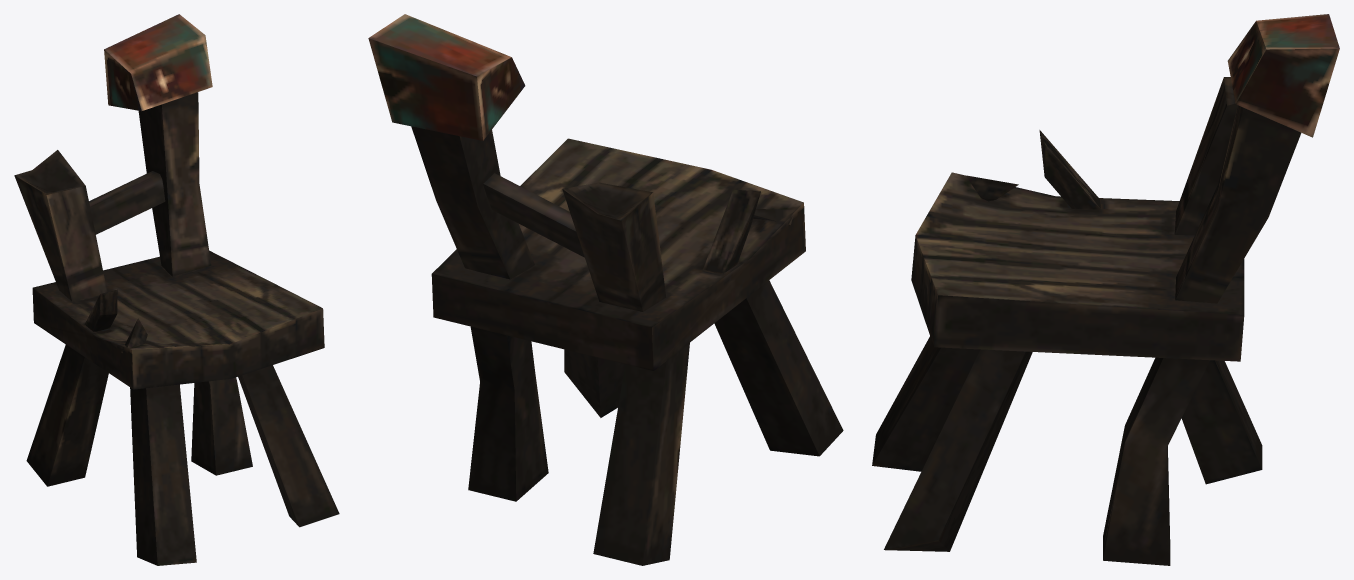
The model's file is dwarven_chair_02.fbx.
3 renders of one model, left to right at view 1: azimuth 30°, elevation 25°; view 2: azimuth 150°, elevation 25°; view 3: azimuth 270°, elevation 25°, orthographic. The views are drawn at different scales.
Visible parts, largest first — view 1: dwarven_chair02; view 2: dwarven_chair02; view 3: dwarven_chair02.
Boxes of the visible parts, x1,y1,x2,y2 form: dwarven_chair02: (14,14,339,565); dwarven_chair02: (368,14,843,565); dwarven_chair02: (872,14,1339,565).
Bounding box in the file's own units: 0.9283 × 1.79 × 1.43.
